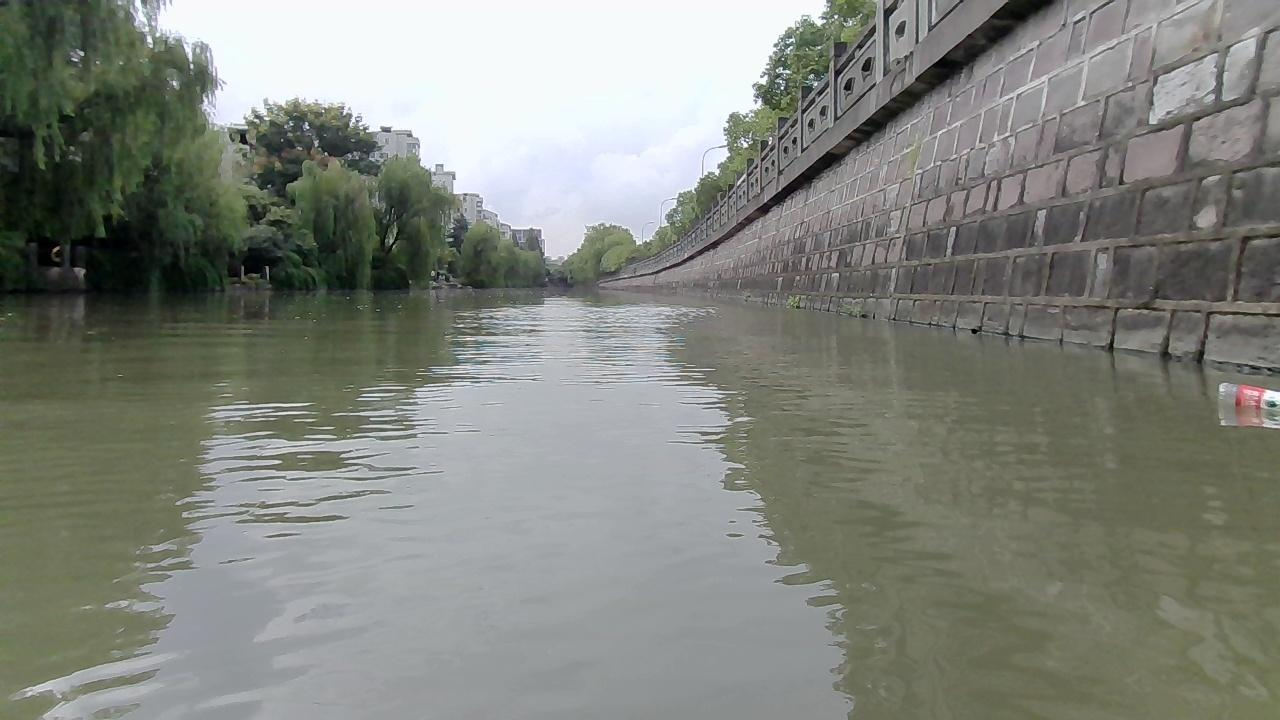bottle: (1215, 380, 1279, 408)
